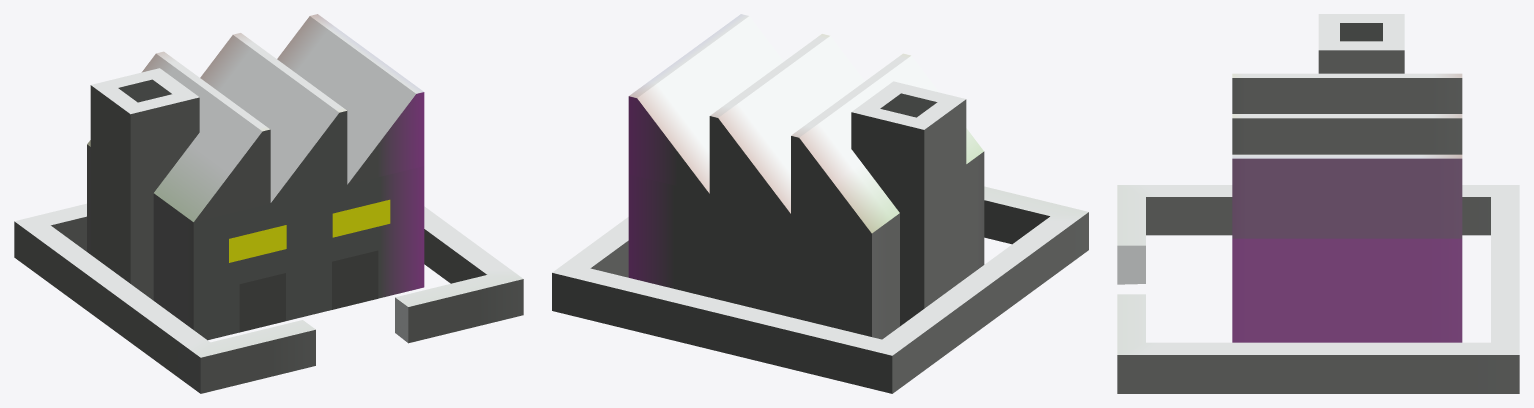
File: Factory.GreySky.Snow.glb
The picture shows the model from 3 angles, left to right: view 1: azimuth 30°, elevation 25°; view 2: azimuth 150°, elevation 25°; view 3: azimuth 270°, elevation 25°; orthographic projection. The views are drawn at different scales.
Visible parts, largest first — view 1: Factory.GreySky.Snow; view 2: Factory.GreySky.Snow; view 3: Factory.GreySky.Snow.
Part boxes in pixels (bbox=[...]): Factory.GreySky.Snow: bbox=[14, 14, 523, 393]; Factory.GreySky.Snow: bbox=[552, 14, 1088, 393]; Factory.GreySky.Snow: bbox=[1117, 14, 1519, 393].
Size of the model in its own units: 2.8 by 1.71 by 2.8.
2 materials, 1 textured.
